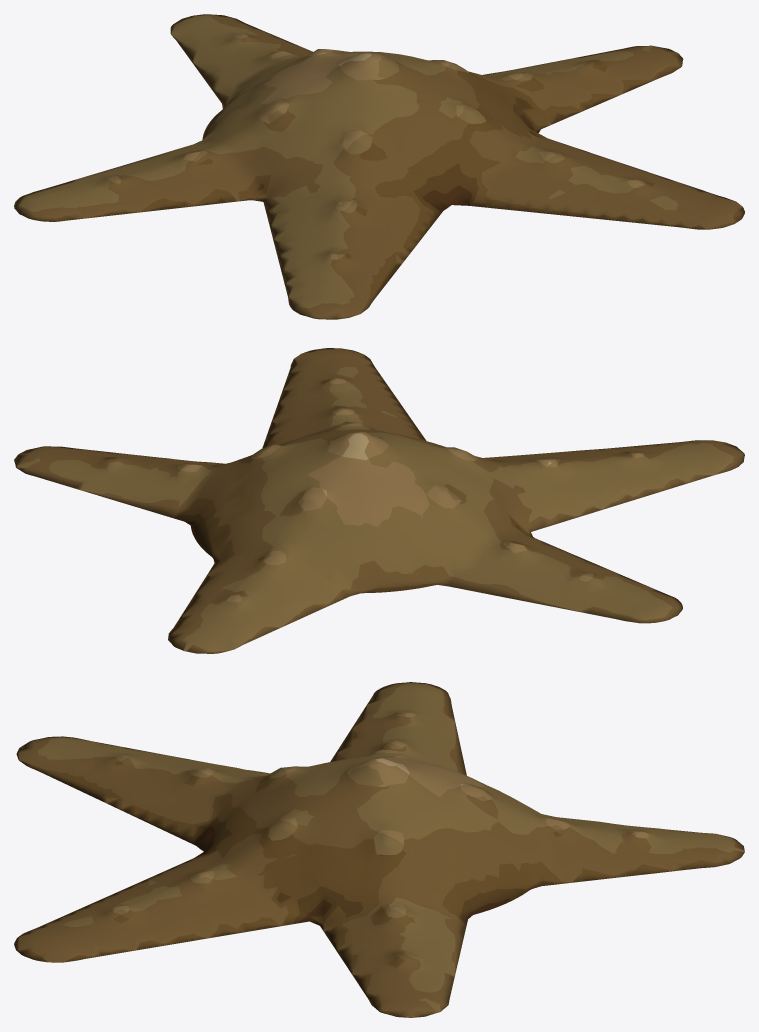
File: coral_starfish.glb
The picture shows the model from 3 angles, top to bottom: view 1: azimuth 30°, elevation 25°; view 2: azimuth 150°, elevation 25°; view 3: azimuth 270°, elevation 25°; orthographic projection. The views are drawn at different scales.
Visible parts, largest first — view 1: coral_starfish; view 2: coral_starfish; view 3: coral_starfish.
Part boxes in pixels (bbox=[...]): coral_starfish: bbox=[14, 14, 744, 319]; coral_starfish: bbox=[14, 348, 744, 653]; coral_starfish: bbox=[14, 682, 744, 1017].
Size of the model in its own units: 24.12 by 3.13 by 22.17.
